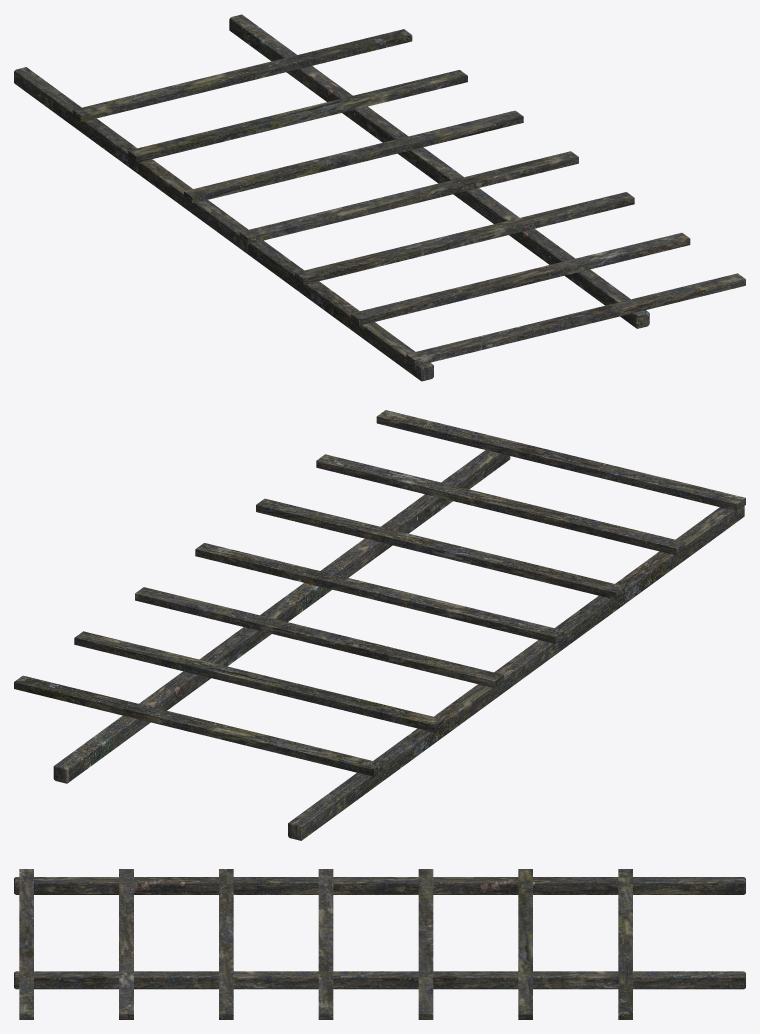
File: RoofNarrowWood.fbx
The picture shows the model from 3 angles, top to bottom: view 1: azimuth 30°, elevation 25°; view 2: azimuth 150°, elevation 25°; view 3: azimuth 270°, elevation 25°; orthographic projection. The views are drawn at different scales.
Visible parts, largest first — view 1: NarrowHorizontal, NarrowVertical; view 2: NarrowHorizontal, NarrowVertical; view 3: NarrowVertical, NarrowHorizontal.
Boxes of the visible parts, <box> form: NarrowHorizontal: <box>72,29,745,366</box>; NarrowVertical: <box>14,14,649,381</box>; NarrowHorizontal: <box>14,410,745,776</box>; NarrowVertical: <box>53,450,744,840</box>; NarrowVertical: <box>14,877,745,989</box>; NarrowHorizontal: <box>19,869,632,1019</box>.
Size of the model in its own units: 196 by 11.96 by 418.
